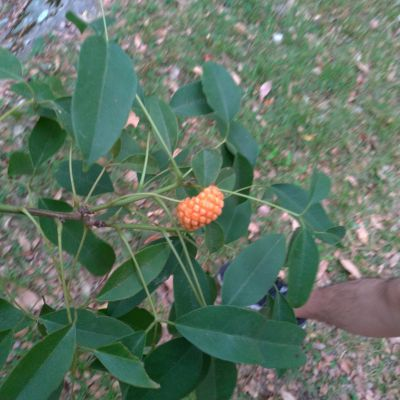eggs: (173, 181, 231, 228)
